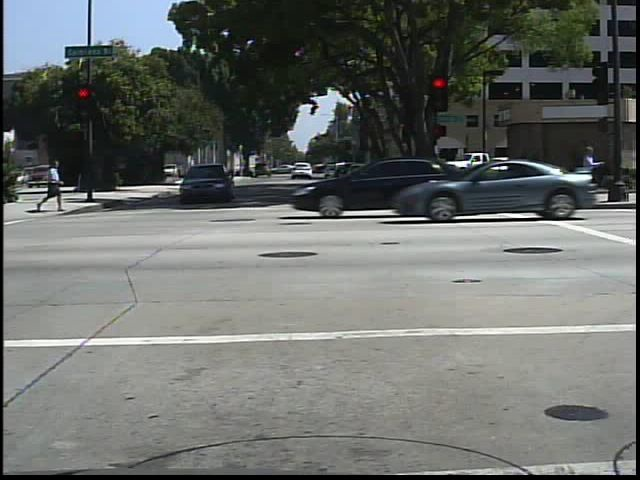person: (575, 143, 607, 209), (40, 157, 63, 216)
